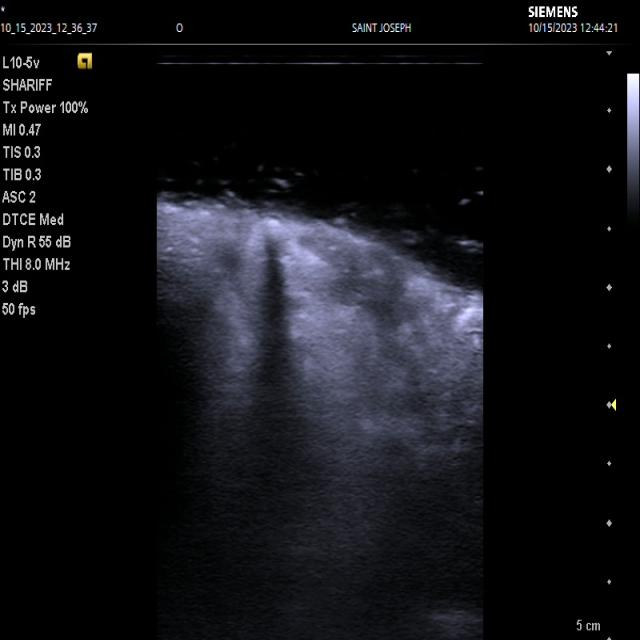tissue: (157, 196, 486, 577), (435, 604, 484, 638)
